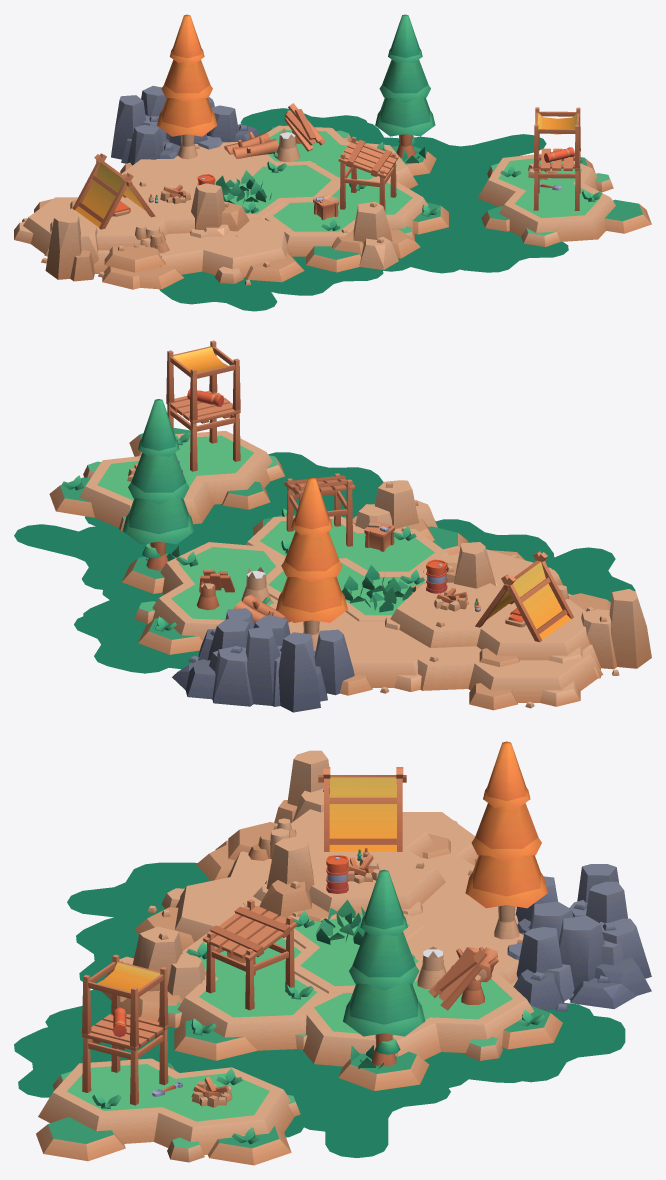
3 renders of one model, top to bottom at view 1: azimuth 30°, elevation 25°; view 2: azimuth 150°, elevation 25°; view 3: azimuth 270°, elevation 25°, orthographic. The views are drawn at different scales.
Visible parts, largest first — view 1: Patch-grass-large3; view 2: Patch-grass-large3; view 3: Patch-grass-large3.
Boxes of the visible parts, left/top/right/bottom form: Patch-grass-large3: left=14, top=14, right=651, bottom=311; Patch-grass-large3: left=14, top=340, right=651, bottom=712; Patch-grass-large3: left=14, top=741, right=651, bottom=1165.
Size of the model in its own units: 5.22 by 1.5 by 4.06.
32 materials, 32 textured.
